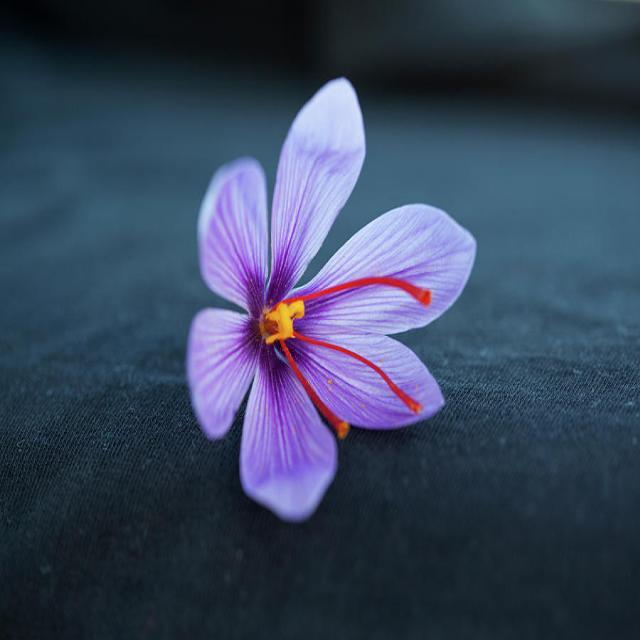Flower: (180, 78, 478, 521)
stigma: (290, 330, 428, 420), (278, 336, 354, 441), (278, 271, 436, 308)
